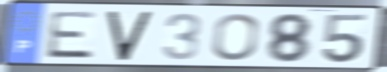3: (162, 11, 203, 61)
5: (320, 12, 369, 65)
8: (264, 11, 314, 64)
E: (44, 10, 100, 61)
O: (210, 12, 261, 62)
V: (105, 9, 155, 63)
